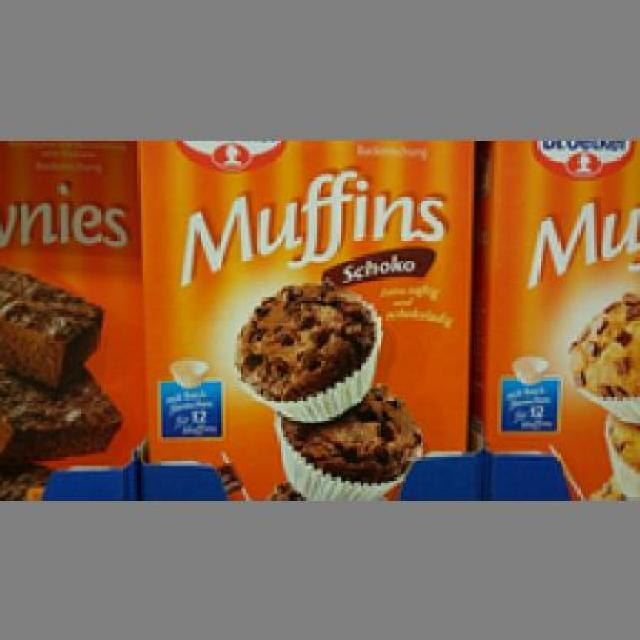Cake: (137, 137, 470, 490), (480, 139, 637, 492), (0, 136, 135, 478)
